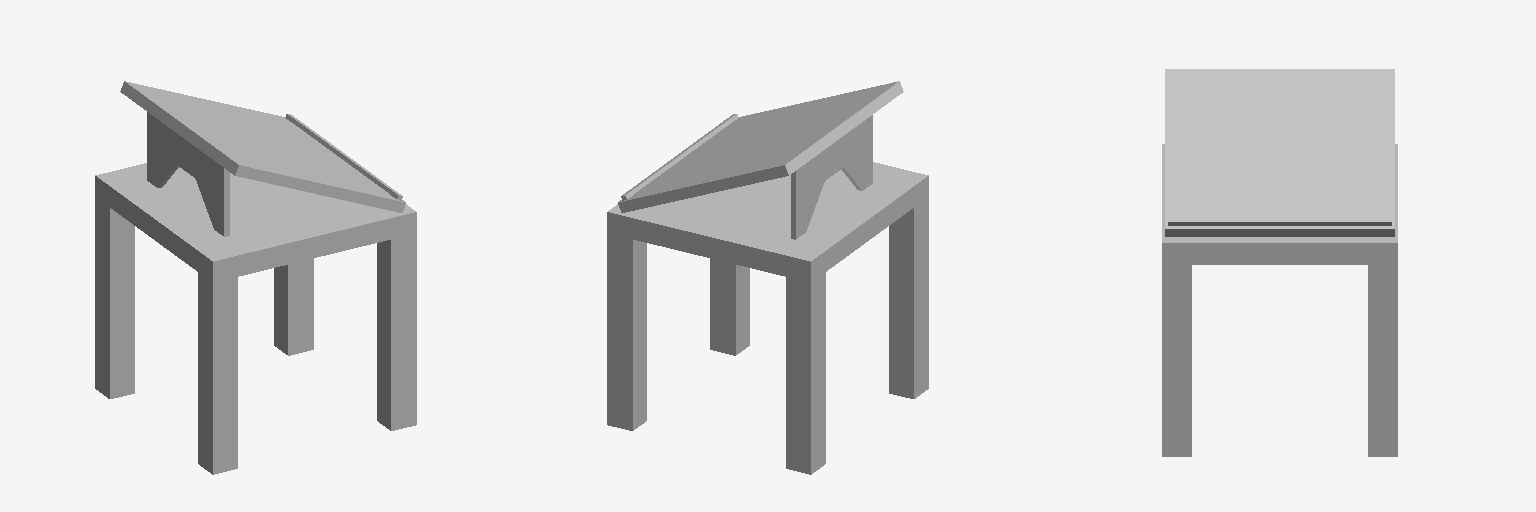
The model's file is part_planner.obj.
3 renders of one model, left to right at view 1: azimuth 30°, elevation 25°; view 2: azimuth 150°, elevation 25°; view 3: azimuth 270°, elevation 25°, orthographic.
Bounding box in the file's own units: 1 × 1.42 × 1.